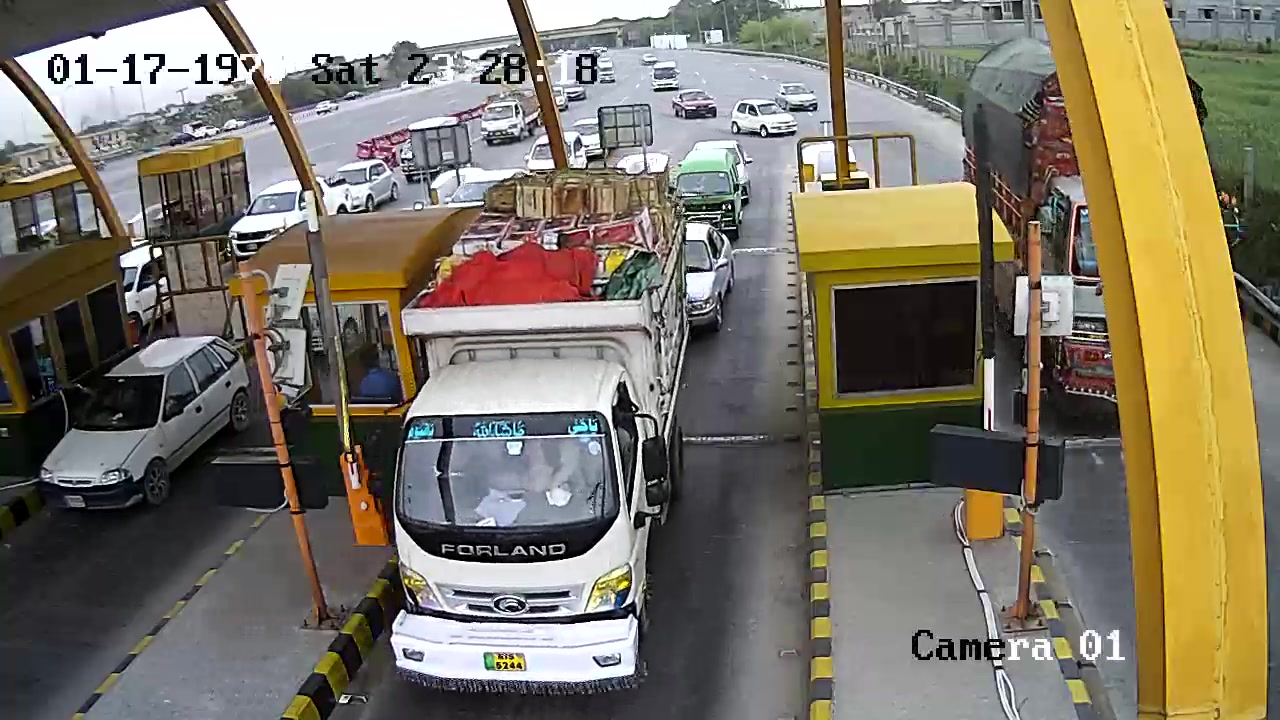F5: (383, 161, 695, 683)
